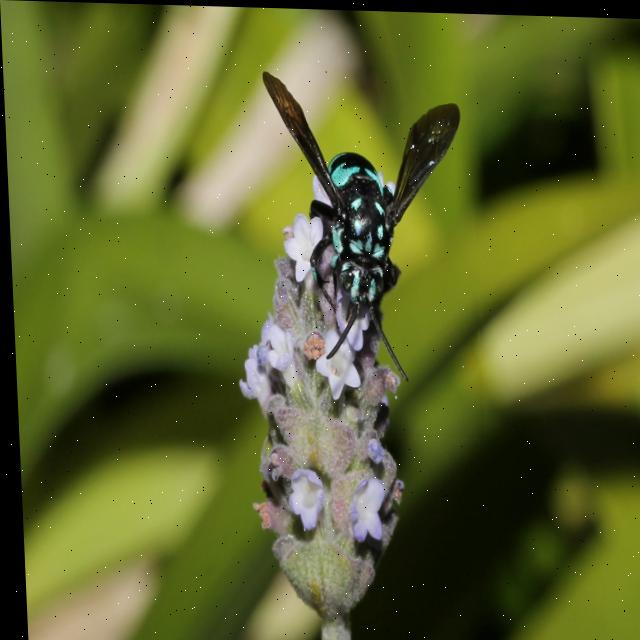Thyreus: (254, 61, 481, 436)
